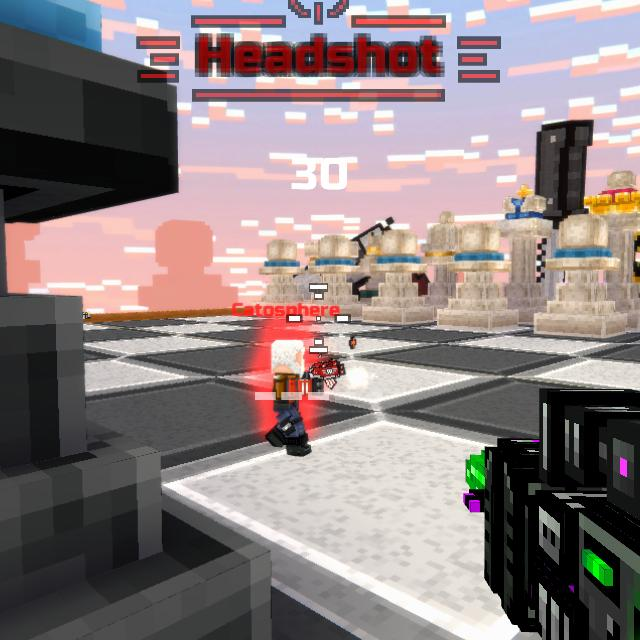Enemy: (262, 337, 323, 454)
